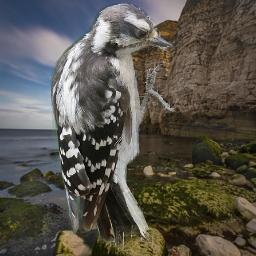Woodpecker: (51, 3, 177, 249)
